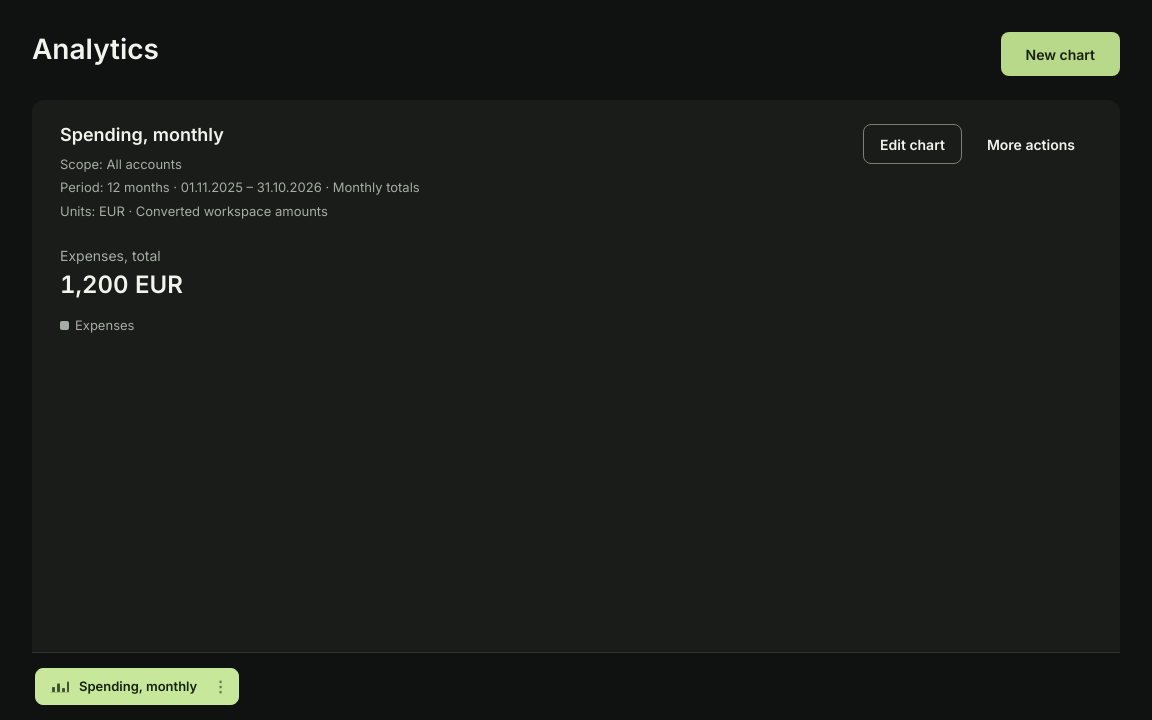
Test: building a chart › redraws the card in its new shape from the numbers already in hand
The image size is (1152, 720).
Expected: the heading "Spending, monthly" is shown, [60, 124, 224, 145]
Expected: the text "Expenses, total" is shown, [60, 247, 161, 264]
Click the button named "Actions for Spending, monthly".
click(220, 686)  # box [202, 668, 238, 704]
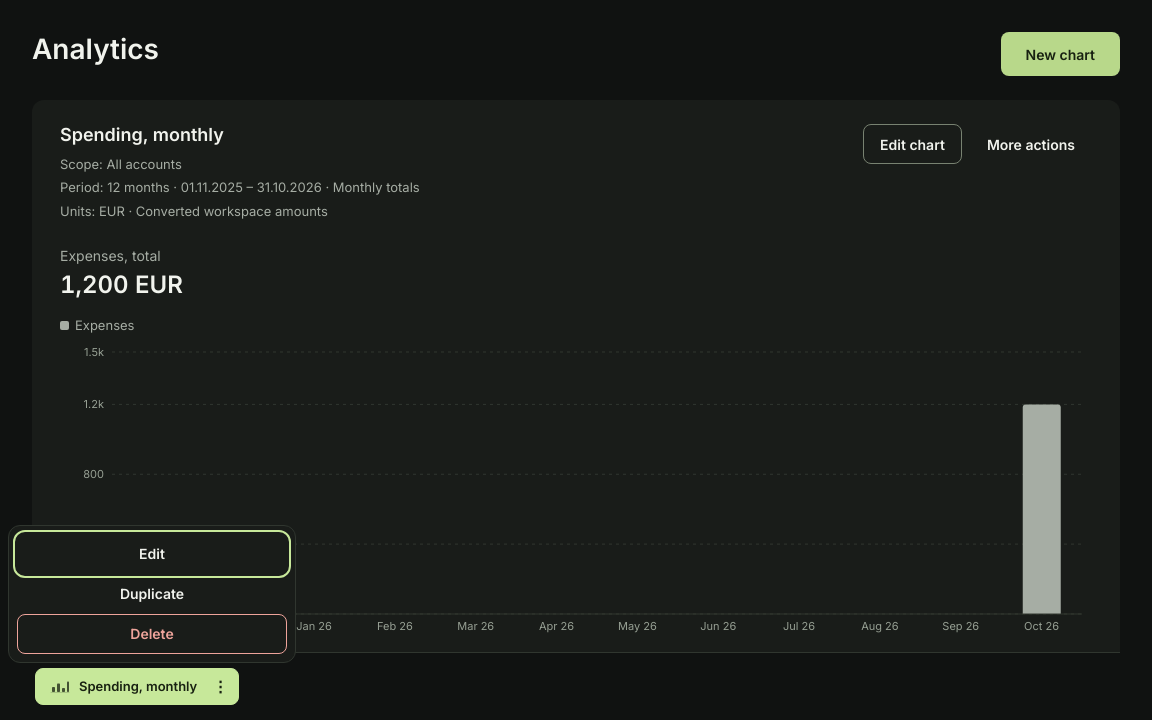
Click the button "Edit".
click(152, 554)  # box [17, 534, 287, 574]
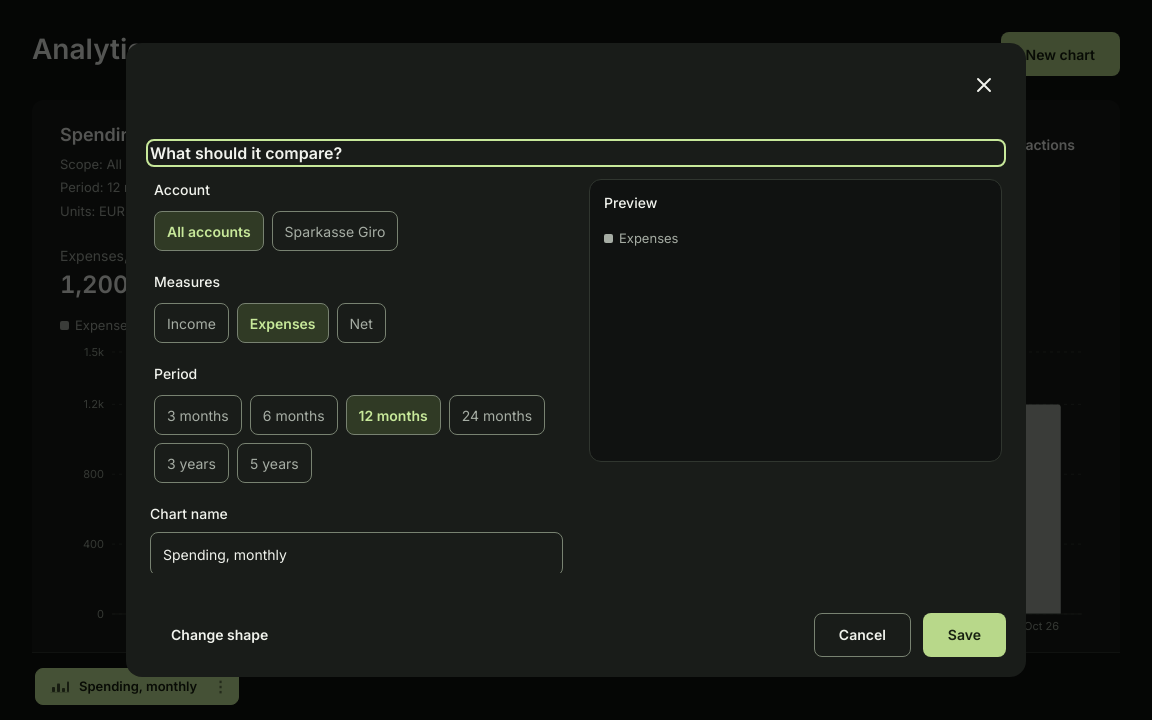
Click the button "Change shape".
click(220, 635)  # box [146, 613, 293, 657]
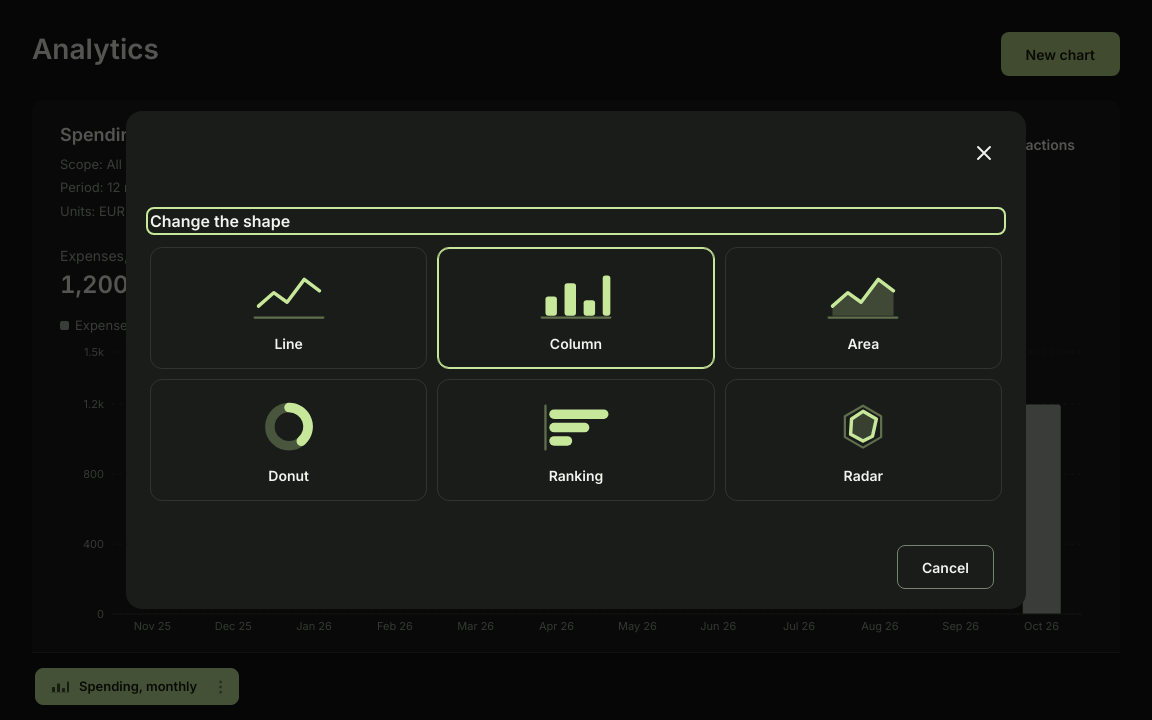
Click the button "Area".
click(863, 308)  # box [725, 247, 1002, 369]
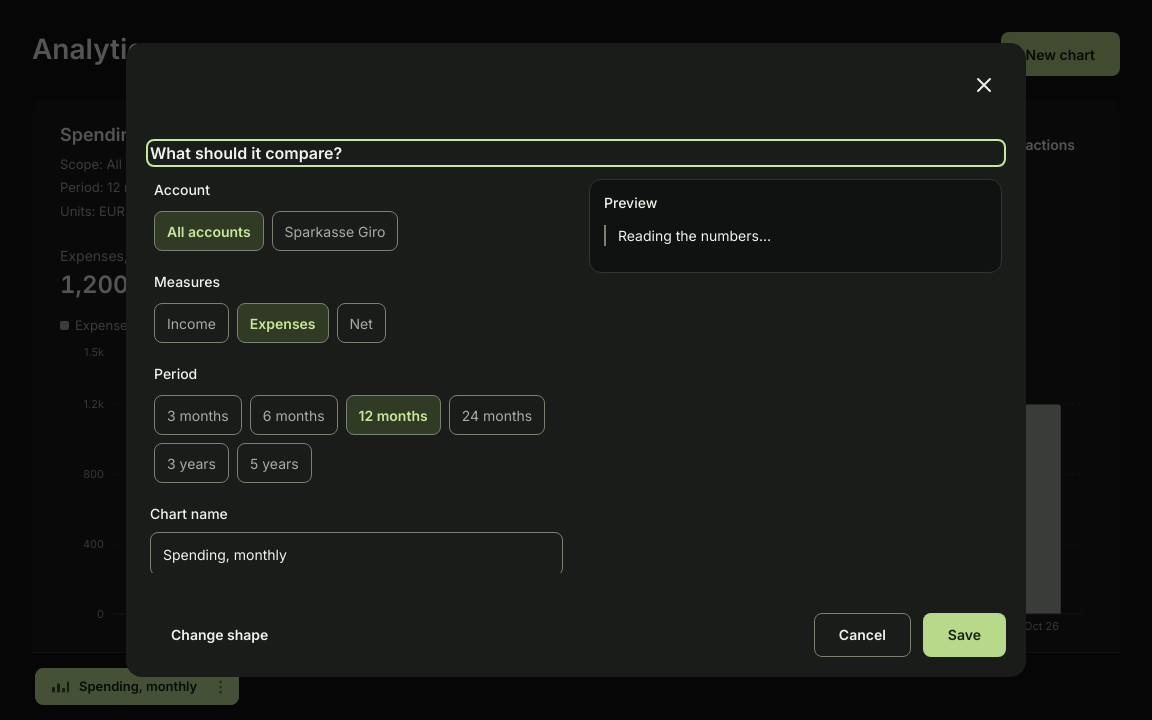
Expected: the heading "What should it compare?" is shown, [150, 143, 342, 163]
taken with the wizard still up, so what follows counts the card and nothing else
Click the button "Save".
click(964, 635)  # box [923, 613, 1006, 657]
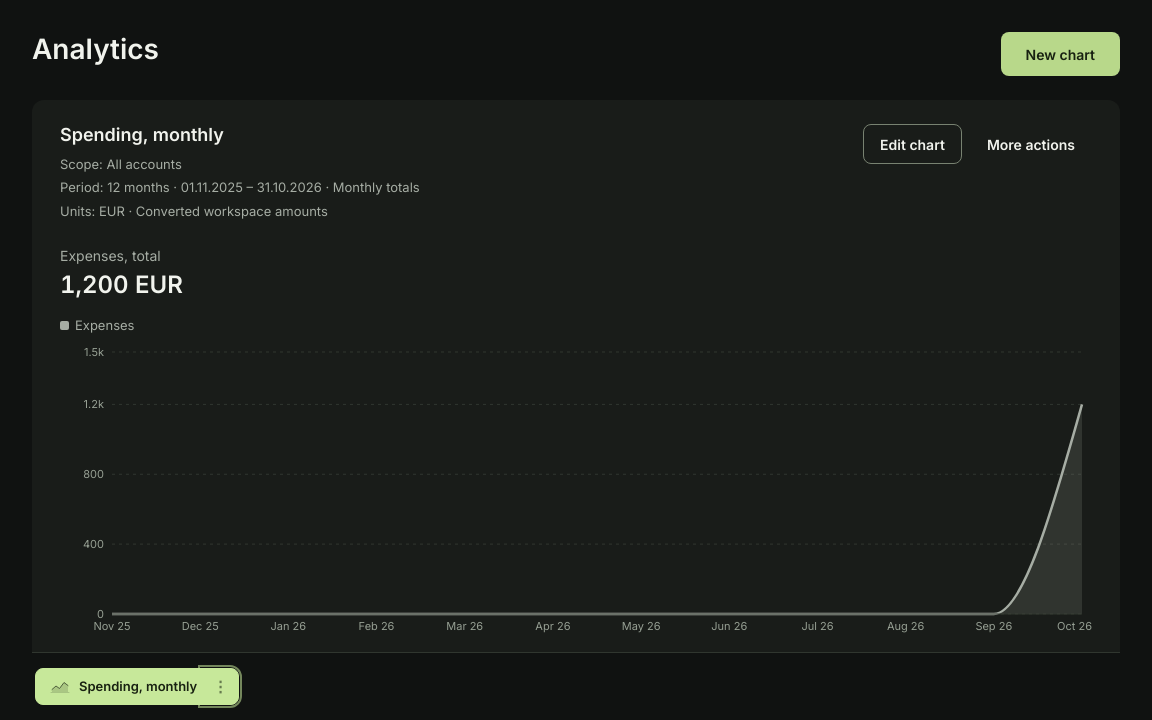
Expected: the text "Expenses, total" is shown, [60, 247, 161, 264]
Expected: the text "Reading the numbers…" is gone
